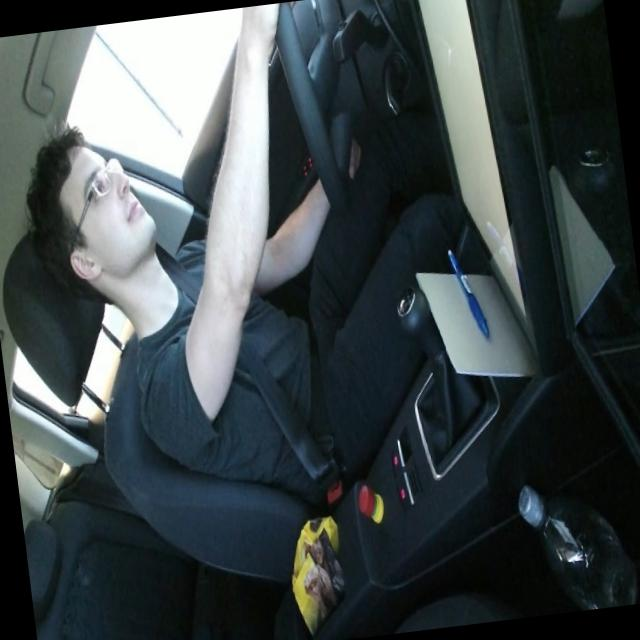pen: (445, 243, 490, 342)
